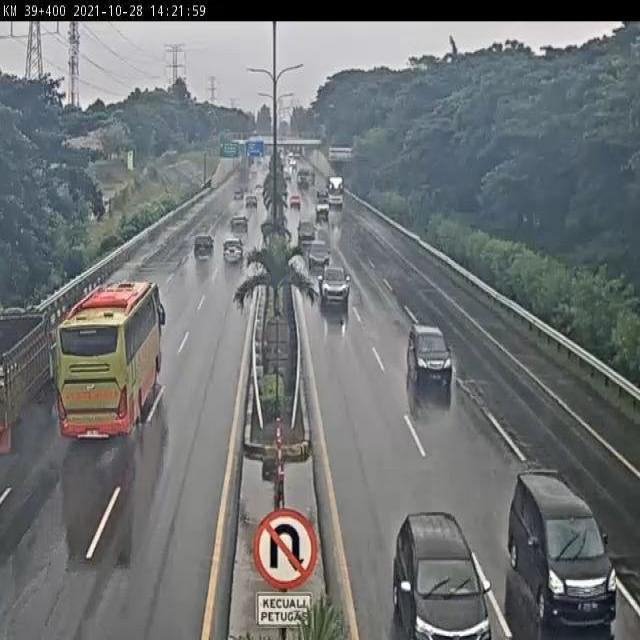big bus: (56, 279, 172, 444)
car: (506, 472, 617, 627), (319, 266, 352, 306), (192, 231, 217, 264), (309, 239, 332, 272), (221, 236, 245, 265)
truck-l-: (0, 312, 56, 440)
